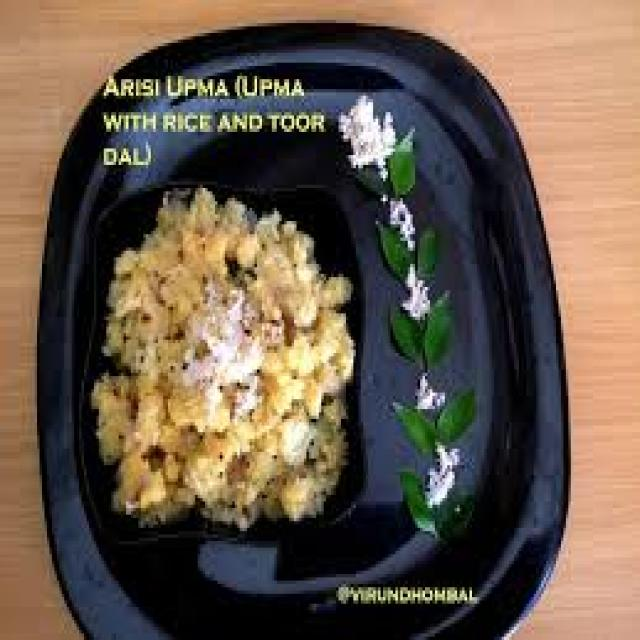UPMA: (89, 191, 351, 525)
